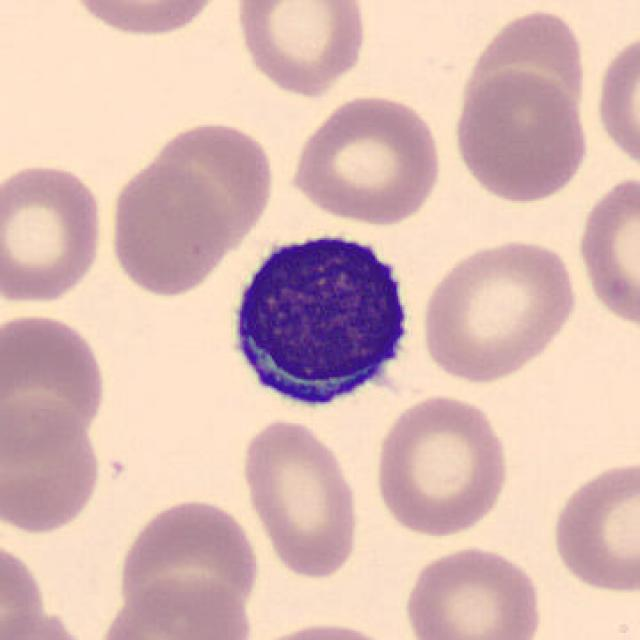Lymphocyte: (217, 219, 423, 416)
RBC: (416, 233, 581, 384), (286, 90, 446, 227), (370, 390, 514, 540), (236, 414, 364, 582), (114, 494, 263, 631), (448, 67, 594, 205), (452, 5, 592, 145), (105, 159, 233, 298), (142, 115, 278, 245), (0, 308, 110, 462), (0, 158, 107, 308), (398, 541, 548, 640), (0, 398, 105, 538), (231, 0, 372, 99), (548, 455, 638, 598), (572, 169, 640, 333), (94, 573, 258, 640), (592, 25, 638, 178), (62, 0, 228, 41), (0, 537, 50, 640), (242, 617, 407, 640), (0, 606, 98, 640)
